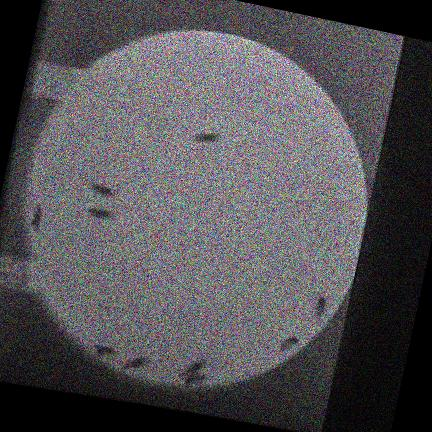fly: (91, 182, 116, 198), (183, 360, 206, 376), (123, 357, 151, 370), (281, 335, 300, 352), (88, 208, 113, 220), (94, 345, 118, 357), (31, 206, 42, 232), (194, 132, 219, 143), (185, 373, 205, 386), (316, 297, 327, 318)
